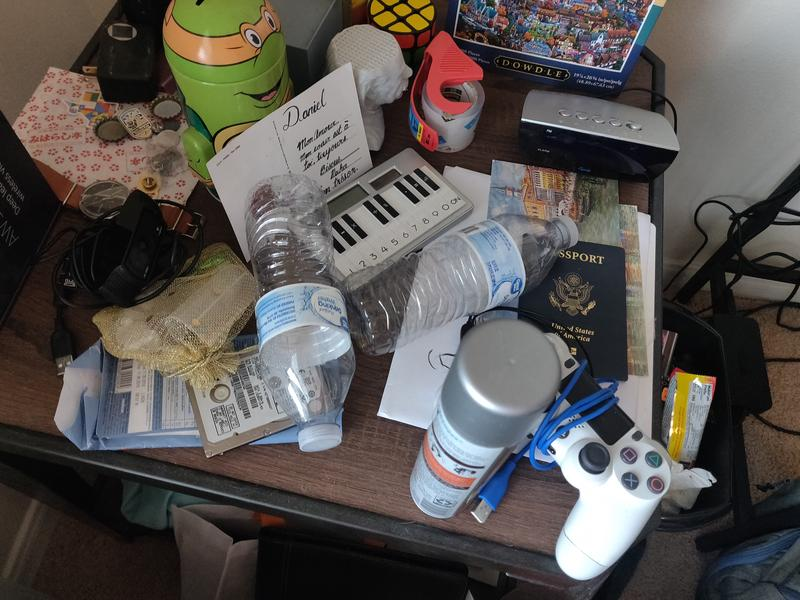bottle: (341, 213, 579, 356), (246, 174, 356, 453)
